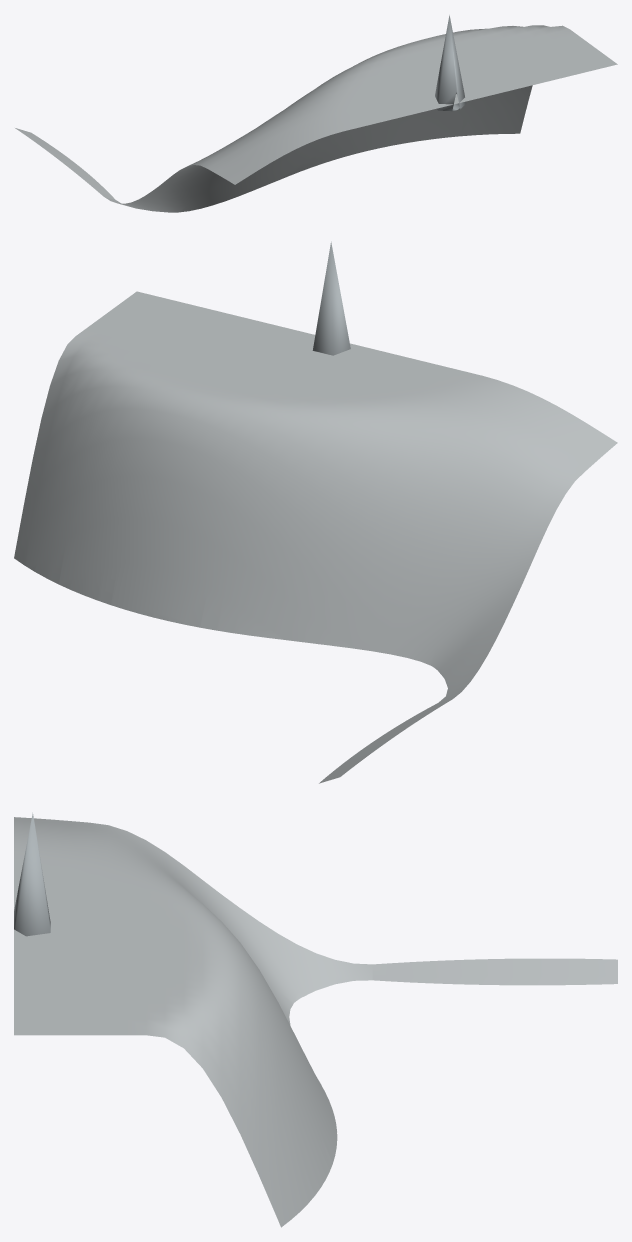
File: alpine-11-2.glb
3 renders of one model, top to bottom at view 1: azimuth 30°, elevation 25°; view 2: azimuth 150°, elevation 25°; view 3: azimuth 270°, elevation 25°, orthographic. The views are drawn at different scales.
Parts seen in each view (by area): view 1: alpine-11-2; view 2: alpine-11-2; view 3: alpine-11-2.
Boxes of the visible parts, x1,y1,x2,y2 form: alpine-11-2: (15, 15, 617, 212); alpine-11-2: (14, 241, 617, 783); alpine-11-2: (14, 812, 617, 1227).
Size of the model in its own units: 256 by 144 by 256.
2 materials, 2 textured.
